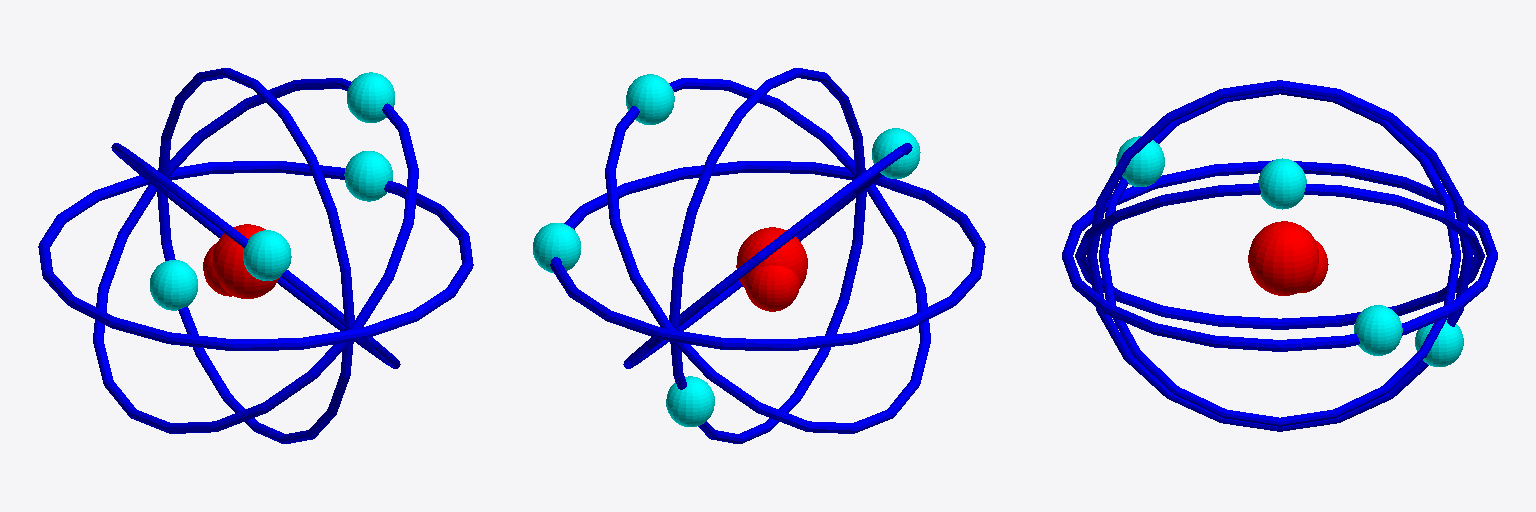
File: objeto2.obj
3 renders of one model, left to right at view 1: azimuth 30°, elevation 25°; view 2: azimuth 150°, elevation 25°; view 3: azimuth 270°, elevation 25°, orthographic.
Parts seen in each view (by area): view 1: pTorus2, pTorus4, pTorus3, pTorus1, pSphere9, pSphere6, pSphere4, pSphere5, pSphere3; view 2: pTorus2, pTorus4, pTorus3, pTorus1, pSphere16, pSphere9, pSphere3, pSphere6, pSphere5, pSphere4; view 3: pTorus2, pTorus3, pTorus4, pTorus1, pSphere9, pSphere3, pSphere5, pSphere4, pSphere6.
Boxes of the visible parts, <box> form: pTorus2: <box>38,161,473,350</box>; pTorus4: <box>93,78,418,433</box>; pTorus3: <box>157,68,354,443</box>; pTorus1: <box>111,143,400,368</box>; pSphere9: <box>213,224,279,298</box>; pSphere6: <box>150,260,197,310</box>; pSphere4: <box>243,230,291,280</box>; pSphere5: <box>344,151,392,201</box>; pSphere3: <box>347,72,394,122</box>; pTorus2: <box>550,161,985,350</box>; pTorus4: <box>605,78,930,433</box>; pTorus3: <box>669,68,866,443</box>; pTorus1: <box>623,143,912,368</box>; pSphere16: <box>745,265,799,311</box>; pSphere9: <box>736,227,807,288</box>; pSphere3: <box>626,74,674,124</box>; pSphere6: <box>666,376,714,426</box>; pSphere5: <box>533,223,580,272</box>; pSphere4: <box>872,128,920,178</box>; pTorus2: <box>1062,160,1497,351</box>; pTorus3: <box>1087,80,1472,431</box>; pTorus4: <box>1075,183,1484,329</box>; pTorus1: <box>1099,90,1460,426</box>; pSphere9: <box>1248,221,1318,295</box>; pSphere3: <box>1258,158,1306,209</box>; pSphere5: <box>1354,305,1402,355</box>; pSphere4: <box>1116,136,1164,186</box>; pSphere6: <box>1415,318,1463,366</box>.
Size of the model in its own units: 11.56 by 10.22 by 11.55.